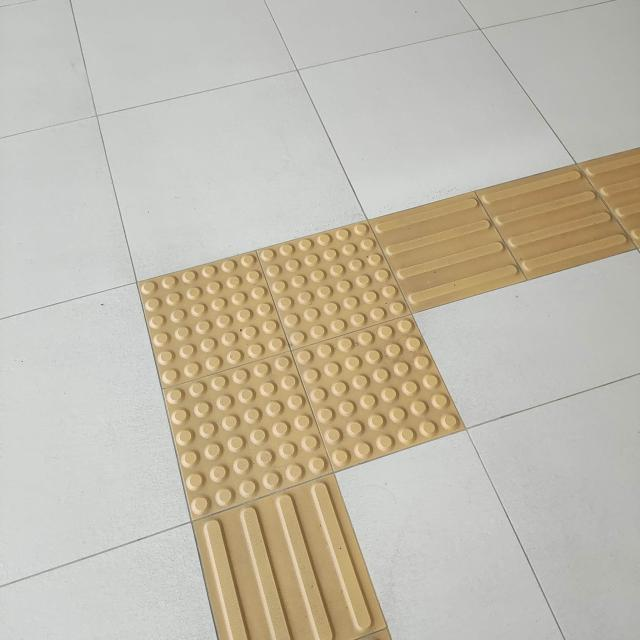kanan: (74, 170, 602, 540)
